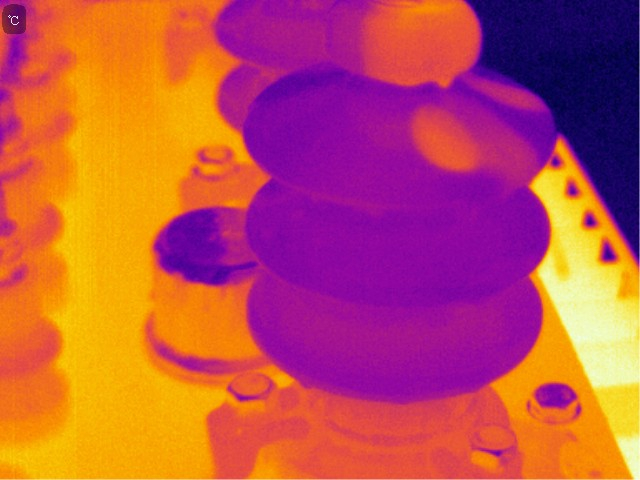Oil: (323, 1, 481, 87), (410, 100, 497, 175), (496, 124, 529, 188), (492, 83, 539, 113)
